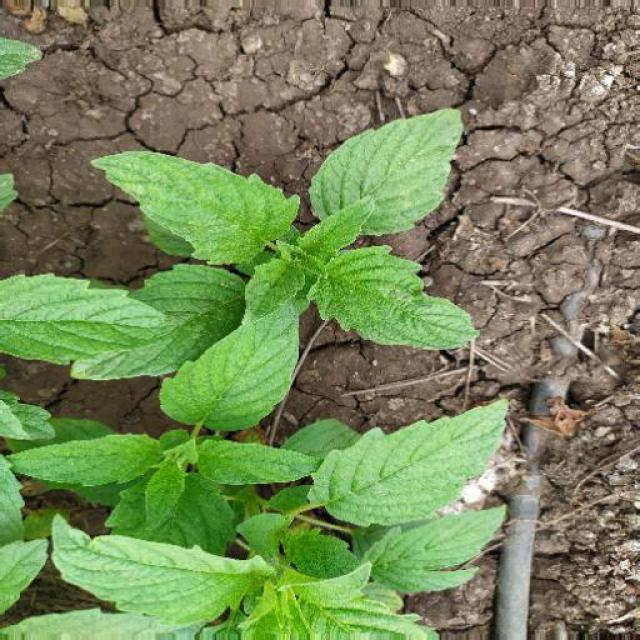crop: (95, 131, 497, 431), (1, 401, 536, 621)
